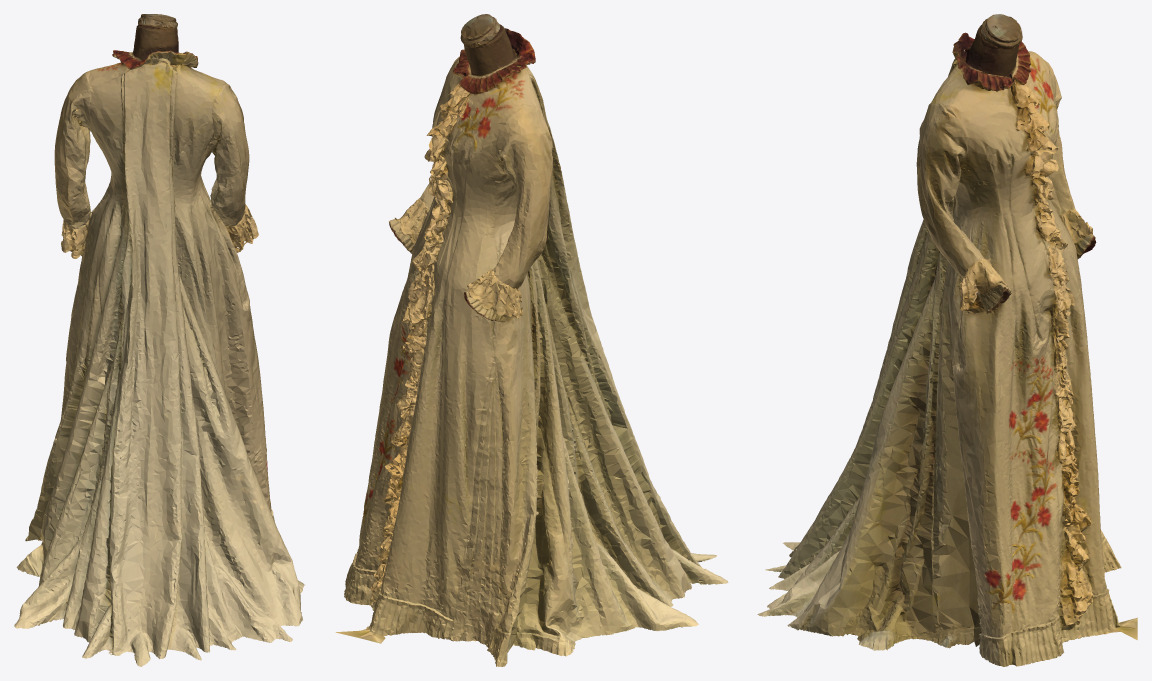
The picture shows the model from 3 angles, left to right: view 1: azimuth 30°, elevation 25°; view 2: azimuth 150°, elevation 25°; view 3: azimuth 270°, elevation 25°; orthographic projection. The views are drawn at different scales.
Parts seen in each view (by area): view 1: display; view 2: display; view 3: display.
Part boxes in pixels (x1,y1,x2,y2): display: [14, 14, 304, 666]; display: [335, 14, 728, 666]; display: [757, 14, 1137, 666].
Bounding box in the file's own units: 10.91 × 19.62 × 11.54.
Materials: 1 (1 with a texture image).
